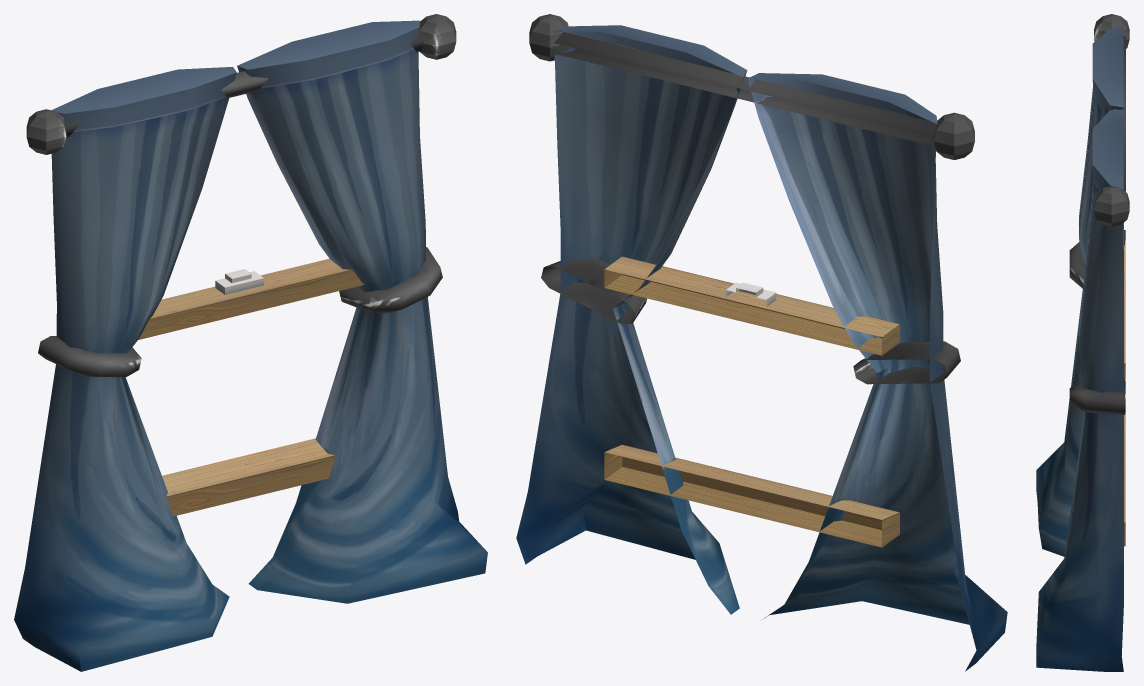
Rendered from Window.fbx.
The picture shows the model from 3 angles, left to right: view 1: azimuth 30°, elevation 25°; view 2: azimuth 150°, elevation 25°; view 3: azimuth 270°, elevation 25°; orthographic projection. The views are drawn at different scales.
Parts seen in each view (by area): view 1: polySurface115; view 2: polySurface115; view 3: polySurface115.
Part boxes in pixels (x1,y1,x2,y2): polySurface115: [14, 14, 487, 671]; polySurface115: [516, 14, 1007, 671]; polySurface115: [1036, 14, 1129, 671].
Bounding box in the file's own units: 24.68 × 28.25 × 4.99.
